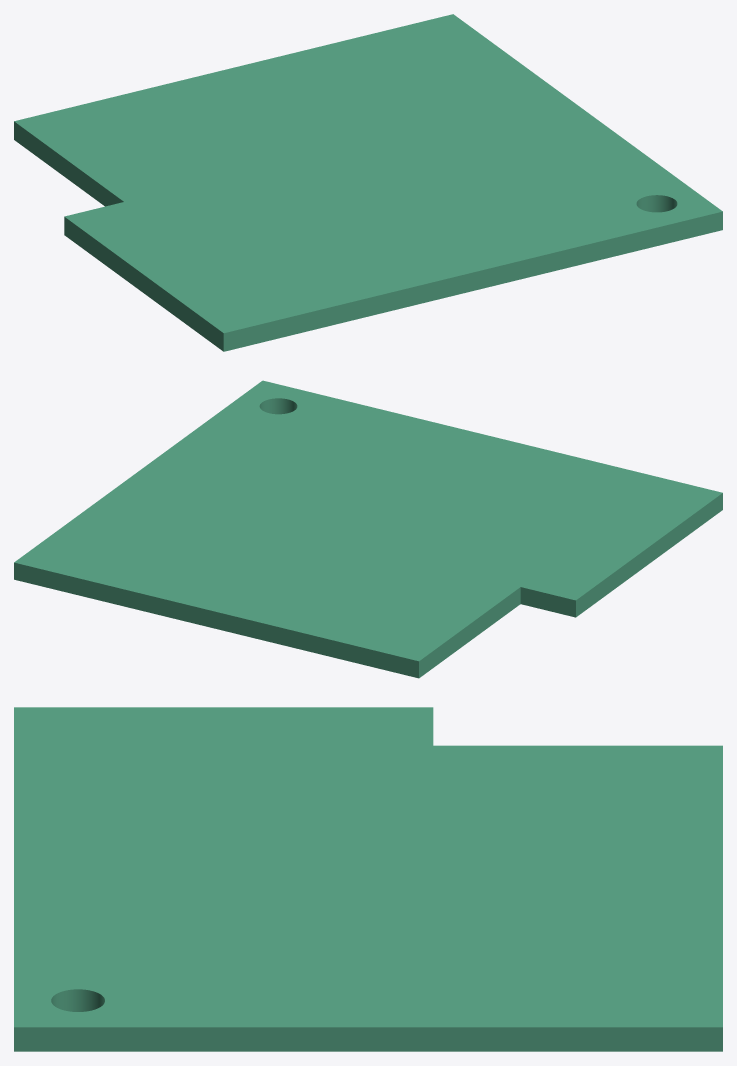
File: board.glb
3 renders of one model, top to bottom at view 1: azimuth 30°, elevation 25°; view 2: azimuth 150°, elevation 25°; view 3: azimuth 270°, elevation 25°, orthographic. The views are drawn at different scales.
Parts seen in each view (by area): view 1: =>[0:1:1:4]; view 2: =>[0:1:1:4]; view 3: =>[0:1:1:4].
Boxes of the visible parts, bbox=[...] form: =>[0:1:1:4]: bbox=[14, 14, 722, 351]; =>[0:1:1:4]: bbox=[14, 380, 722, 678]; =>[0:1:1:4]: bbox=[14, 707, 722, 1051].
Bounding box in the file's own units: 0.045 × 0.0016 × 0.0421.
